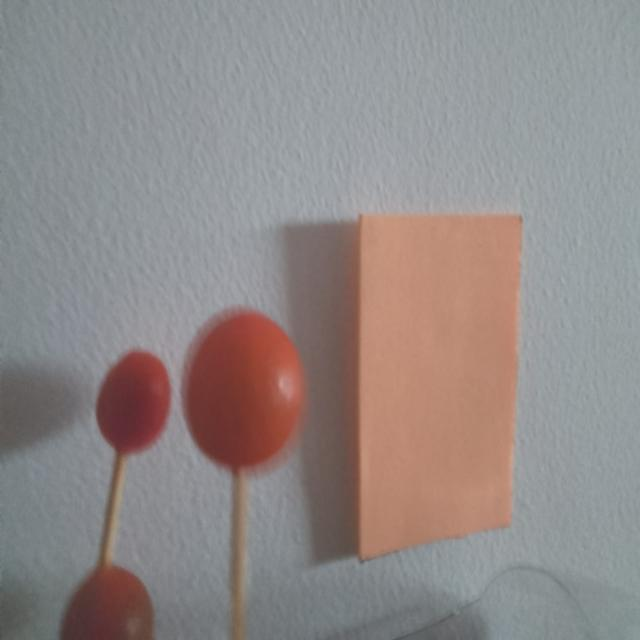card: (357, 215, 522, 559)
fully_grown: (182, 308, 305, 639), (96, 351, 171, 454), (61, 565, 154, 639)
